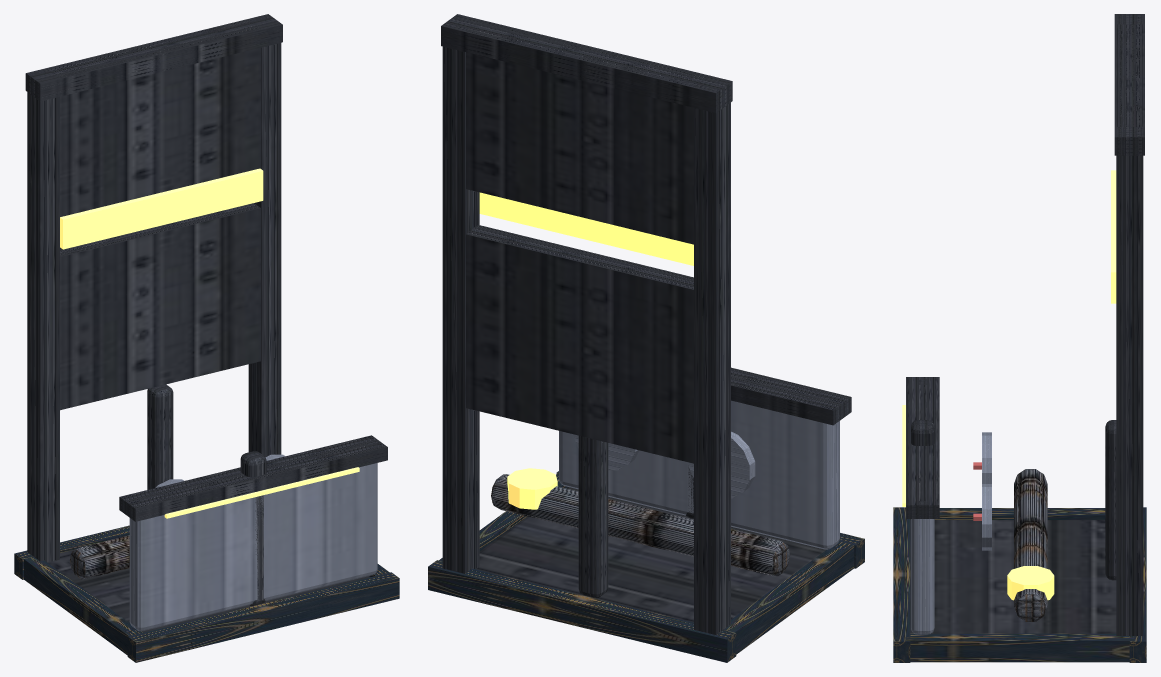
The model's file is power_gauge.glb.
3 views of the same model, side by side, from view 1: azimuth 30°, elevation 25°; view 2: azimuth 150°, elevation 25°; view 3: azimuth 270°, elevation 25° (orthographic). The views are drawn at different scales.
Parts seen in each view (by area): view 1: sight_shell, panel, shelltoe0, sightglow, shellrim0, shelltoes0, post2, stand, shellrim2, pipe, post0, shellglow (+1 smaller); view 2: sight_shell, panel, stand, shelltoe2, pipe, post2, sightglow, shelltoes0, shellrim2, valve, dial0, shellrim0 (+2 smaller); view 3: sight_shell, stand, shelltoes2, pipe, panel, shelltoe0, shellrim2, shellrim0, post2, shelltoes0, valve, shelltoe2 (+5 smaller).
Part boxes in pixels (bbox=[...]): sight_shell: bbox=[25, 14, 282, 562]; panel: bbox=[129, 463, 377, 631]; shelltoe0: bbox=[127, 572, 399, 662]; sightglow: bbox=[60, 168, 263, 249]; shellrim0: bbox=[127, 441, 387, 521]; shelltoes0: bbox=[24, 556, 142, 655]; post2: bbox=[147, 384, 173, 489]; stand: bbox=[48, 549, 370, 632]; shellrim2: bbox=[119, 435, 379, 515]; pipe: bbox=[70, 535, 129, 579]; post0: bbox=[240, 451, 266, 605]; shellglow: bbox=[164, 467, 359, 518]; sight_shell: bbox=[441, 14, 732, 634]; panel: bbox=[559, 400, 839, 549]; stand: bbox=[476, 487, 826, 622]; shelltoe2: bbox=[428, 560, 736, 662]; pipe: bbox=[491, 474, 789, 576]; post2: bbox=[578, 435, 608, 598]; sightglow: bbox=[479, 192, 693, 265]; shelltoes0: bbox=[724, 541, 855, 654]; shellrim2: bbox=[731, 376, 842, 425]; valve: bbox=[507, 468, 557, 509]; dial0: bbox=[688, 431, 755, 498]; shellrim0: bbox=[731, 367, 851, 418]; sight_shell: bbox=[1114, 14, 1144, 635]; stand: bbox=[910, 520, 1116, 633]; shelltoes2: bbox=[905, 633, 1134, 662]; pipe: bbox=[1014, 469, 1047, 621]; panel: bbox=[911, 519, 934, 634]; shelltoe0: bbox=[893, 507, 910, 662]; shellrim2: bbox=[922, 377, 939, 518]; shellrim0: bbox=[906, 377, 922, 518]; post2: bbox=[1105, 420, 1116, 580]; shelltoes0: bbox=[910, 508, 1105, 519]; valve: bbox=[1007, 566, 1054, 600]; shelltoe2: bbox=[1129, 507, 1146, 662].
Bounding box in the file's own units: 0.94 × 1.7 × 0.75.
Materials: 9 (6 with a texture image).
